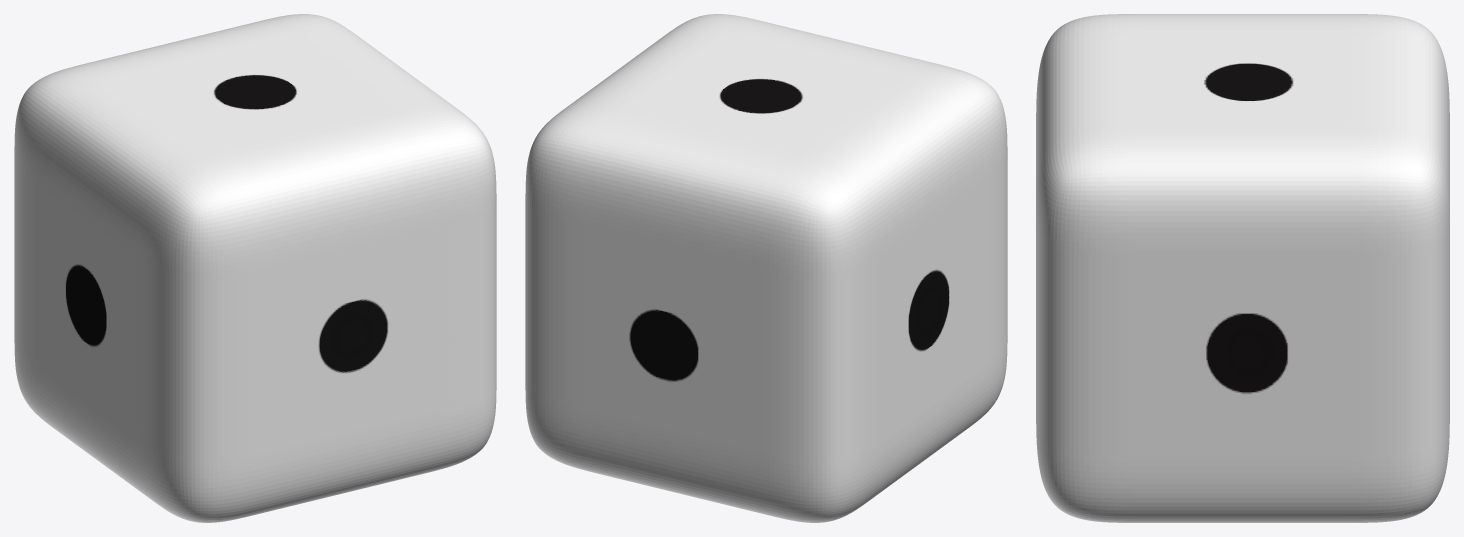
The model's file is dice1.glb.
3 views of the same model, side by side, from view 1: azimuth 30°, elevation 25°; view 2: azimuth 150°, elevation 25°; view 3: azimuth 270°, elevation 25° (orthographic). The views are drawn at different scales.
Visible parts, largest first — view 1: Dice_20Ready; view 2: Dice_20Ready; view 3: Dice_20Ready.
Boxes of the visible parts, x1,y1,x2,y2 form: Dice_20Ready: [14, 14, 496, 522]; Dice_20Ready: [525, 14, 1007, 522]; Dice_20Ready: [1036, 14, 1449, 522].
Size of the model in its own units: 1 by 1 by 1.
Materials: 1 (1 with a texture image).
